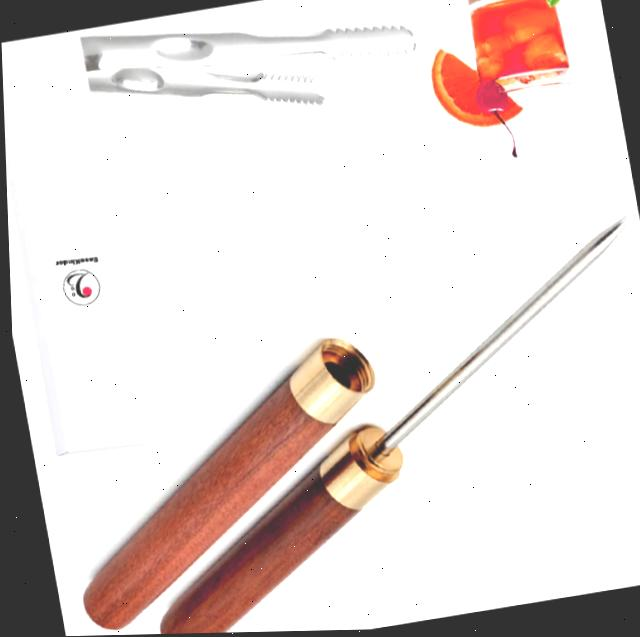ice pick: (94, 209, 640, 635), (39, 333, 406, 634)
